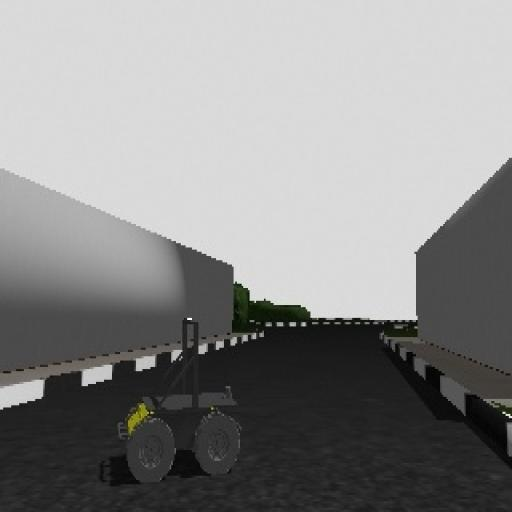huskya200: (107, 314, 269, 496)
